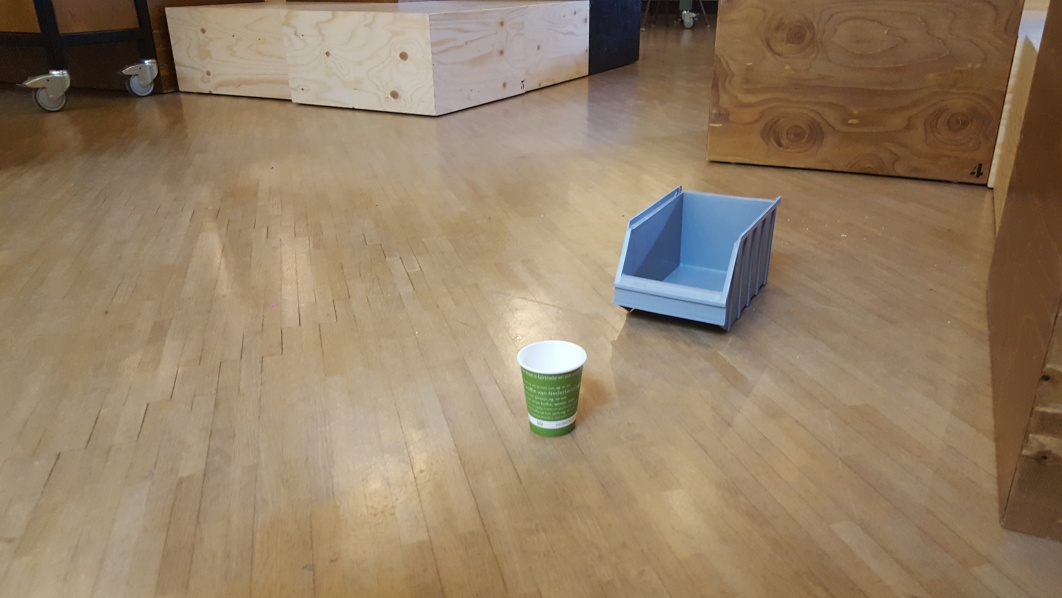cup: (518, 340, 586, 437)
tray: (612, 186, 782, 331)
